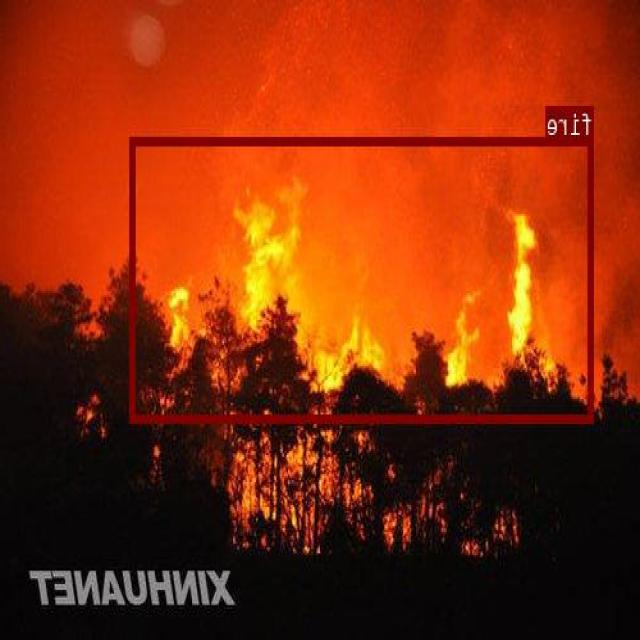fire: (131, 135, 595, 422)
